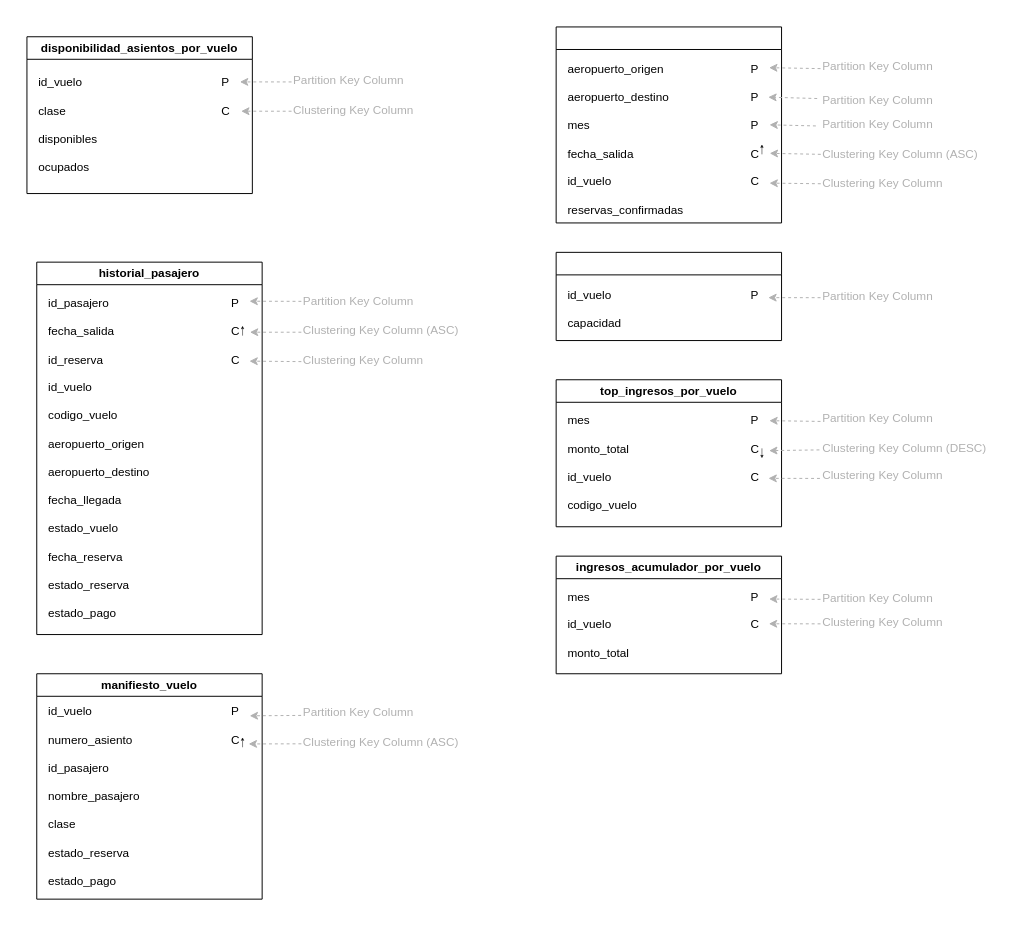
The diagram is 1014 pixels wide and 926 high, and some of its shapes have lost their labels. The shapes that lost their labels are listed below. From the top down, each one's box as (x1, y1, x2, y2) in pixels, then its label:
(555, 26, 782, 223): ocupacion_por_ruta_mes
(555, 251, 782, 341): capacidad_por_vuelo
